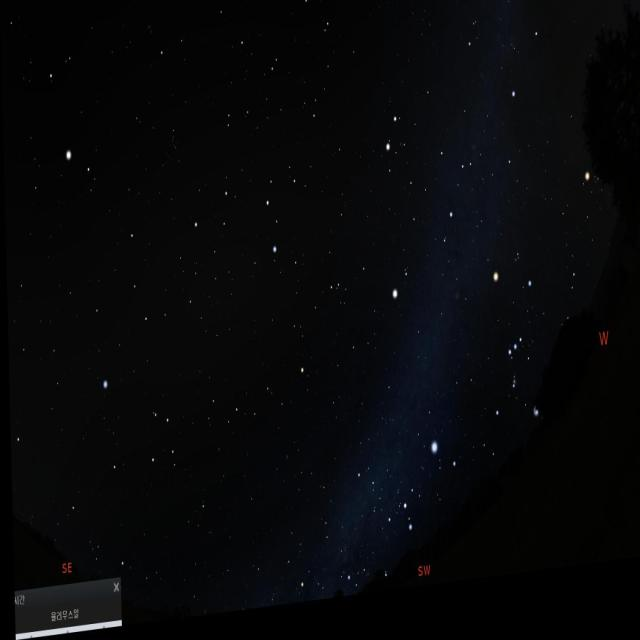bootes: (26, 0, 116, 177)
canis_major: (388, 454, 462, 554)
canis_minor: (387, 266, 418, 322)
gemini: (382, 114, 469, 256)
leo: (190, 158, 306, 300)
orion: (480, 259, 542, 448)
